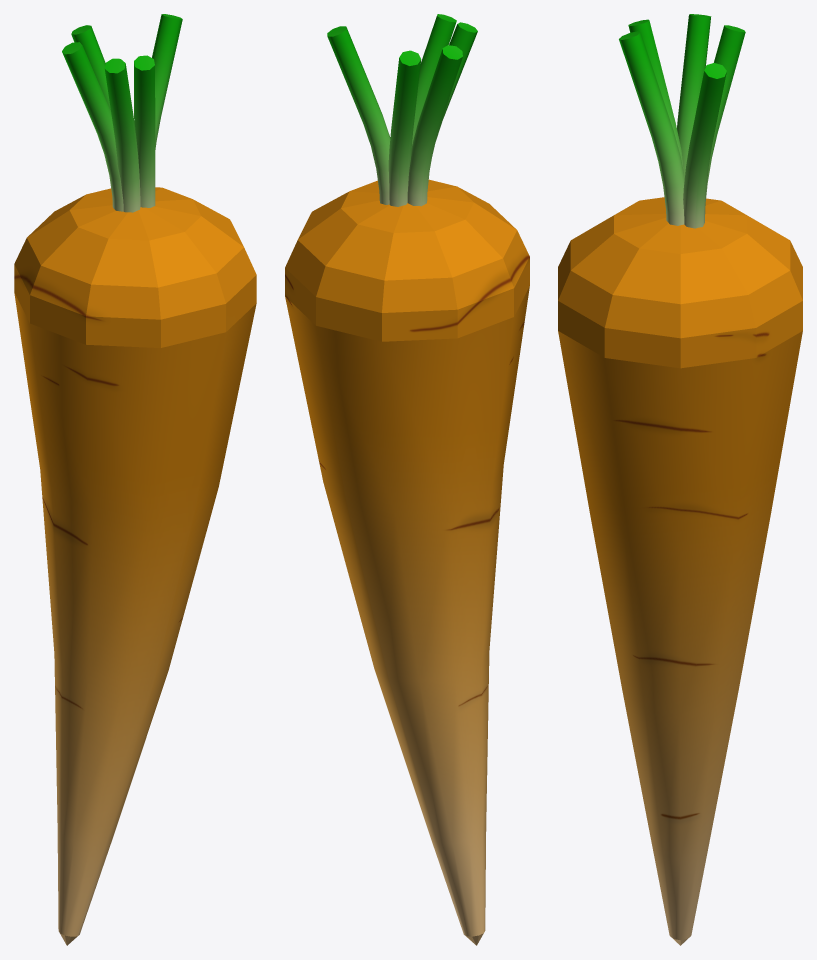
File: carrotty.FBX
The picture shows the model from 3 angles, left to right: view 1: azimuth 30°, elevation 25°; view 2: azimuth 150°, elevation 25°; view 3: azimuth 270°, elevation 25°; orthographic projection. The views are drawn at different scales.
Visible parts, largest first — view 1: Cone001, Cylinder002, Cylinder003, Cylinder001, Cylinder004, Cylinder005; view 2: Cone001, Cylinder003, Cylinder004, Cylinder005, Cylinder001, Cylinder002; view 3: Cone001, Cylinder001, Cylinder004, Cylinder003, Cylinder005, Cylinder002.
Part boxes in pixels (x1,y1,x2,y2): Cone001: (14,187,256,945); Cylinder002: (104,58,140,212); Cylinder003: (62,42,123,211); Cylinder001: (134,55,155,207); Cylinder004: (152,14,182,149); Cylinder005: (71,25,110,110); Cone001: (285,179,529,945); Cylinder003: (407,45,462,206); Cylinder004: (327,26,390,204); Cylinder005: (388,50,421,206); Cylinder001: (412,14,456,145); Cylinder002: (432,22,477,155); Cone001: (558,197,802,945); Cylinder001: (619,31,684,225); Cylinder004: (683,63,726,228); Cylinder003: (677,14,711,176); Cylinder005: (705,25,745,201); Cylinder002: (628,19,683,168).
Size of the model in its own units: 28.89 by 117 by 27.48.
